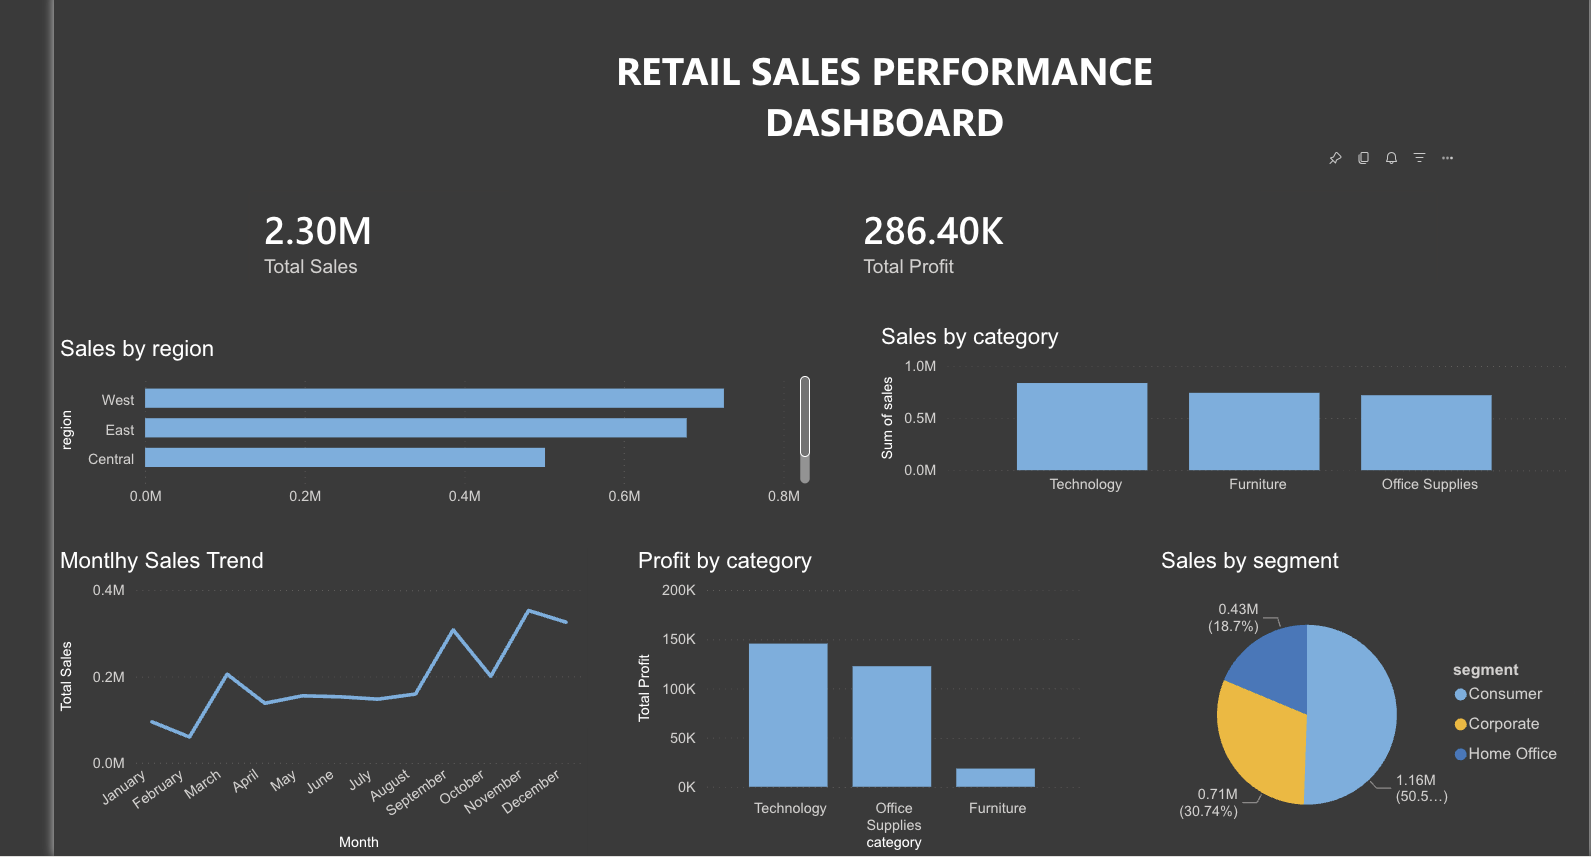

This screenshot's page, from the dashboard's own definition file:
{"tool":"powerbi","page":{"name":"Page 1","canvas":[1280,720],"ordinal":0},"visuals":[{"type":"cardVisual","fields":{"Data":["Sum(superstore_sales_dataset 3.sales)","Sum(superstore_sales_dataset 3.profit)"]},"box":[145,148,1027.8,114.2],"z":0},{"type":"barChart","title":" Sales by region","fields":{"Category":["superstore_sales_dataset 3.region"],"Y":["Sum(superstore_sales_dataset 3.sales)"]},"box":[0,286,635.5,149.9],"z":1000},{"type":"columnChart","title":"Sales by category","fields":{"Category":["superstore_sales_dataset 3.category"],"Y":["Sum(superstore_sales_dataset 3.sales)"]},"box":[685.2,276.1,582.9,149.9],"z":2000},{"type":"lineChart","title":"Montlhy Sales Trend","fields":{"Y":["Sum(superstore_sales_dataset 3.sales)"],"Category":["superstore_sales_dataset 3.order_date.Variation.Date Hierarchy.Month"]},"box":[0,462.8,444.9,257.2],"z":3000},{"type":"columnChart","title":"Profit by category","fields":{"Category":["superstore_sales_dataset 3.category"],"Y":["Sum(superstore_sales_dataset 3.profit)"]},"box":[482.6,462.8,379.3,257.2],"z":4000},{"type":"pieChart","title":"Sales by segment","fields":{"Category":["superstore_sales_dataset 3.segment"],"Y":["Sum(superstore_sales_dataset 3.sales)"]},"box":[918.5,462.8,349.5,257.2],"z":5000},{"type":"textbox","box":[379.3,36.7,626.6,131.1],"z":5001}]}

Visuals, with their boxes on the page's 1280x720 design canvas (x1, y1, x2, y2). These are canvas units, not pixel positions in the 1591x857 screenshot, which may show the page scaled, cropped or inside an application window:
cardVisual - Sum(superstore_sales_dataset 3.sales) x Sum(superstore_sales_dataset 3.profit): [145,148,1173,262]
" Sales by region" barChart: [0,286,636,436]
"Sales by category" columnChart: [685,276,1268,426]
"Montlhy Sales Trend" lineChart: [0,463,445,720]
"Profit by category" columnChart: [483,463,862,720]
"Sales by segment" pieChart: [918,463,1268,720]
textbox: [379,37,1006,168]
